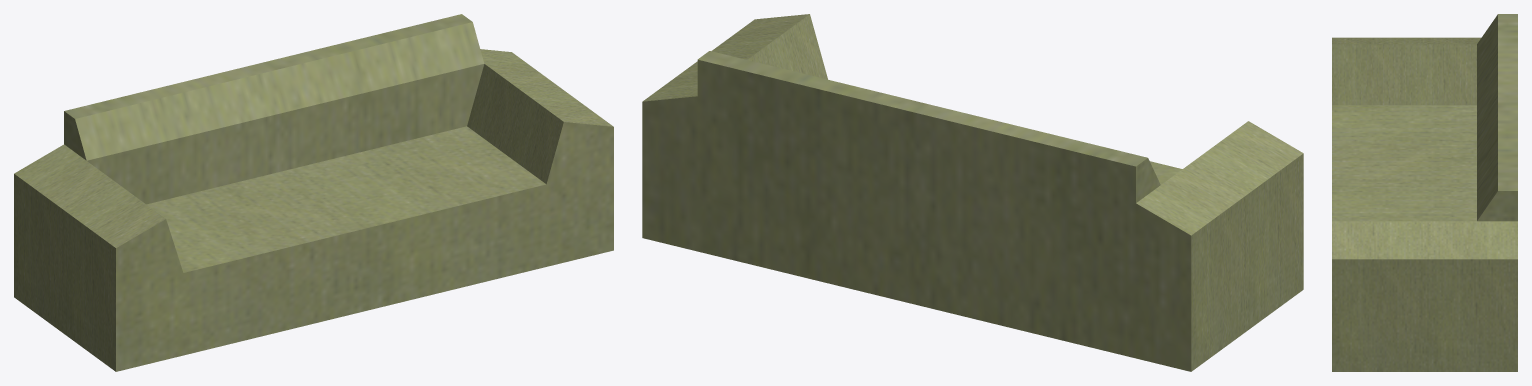
Rendered from Couch_4.fbx.
3 renders of one model, left to right at view 1: azimuth 30°, elevation 25°; view 2: azimuth 150°, elevation 25°; view 3: azimuth 270°, elevation 25°, orthographic. The views are drawn at different scales.
Visible parts, largest first — view 1: Sofa_Green_01; view 2: Sofa_Green_01; view 3: Sofa_Green_01.
Part boxes in pixels (<box>): Sofa_Green_01: <box>14,14,613,371</box>; Sofa_Green_01: <box>642,14,1303,371</box>; Sofa_Green_01: <box>1332,14,1517,371</box>.
Bounding box in the file's own units: 3.36 × 1.12 × 1.19.
